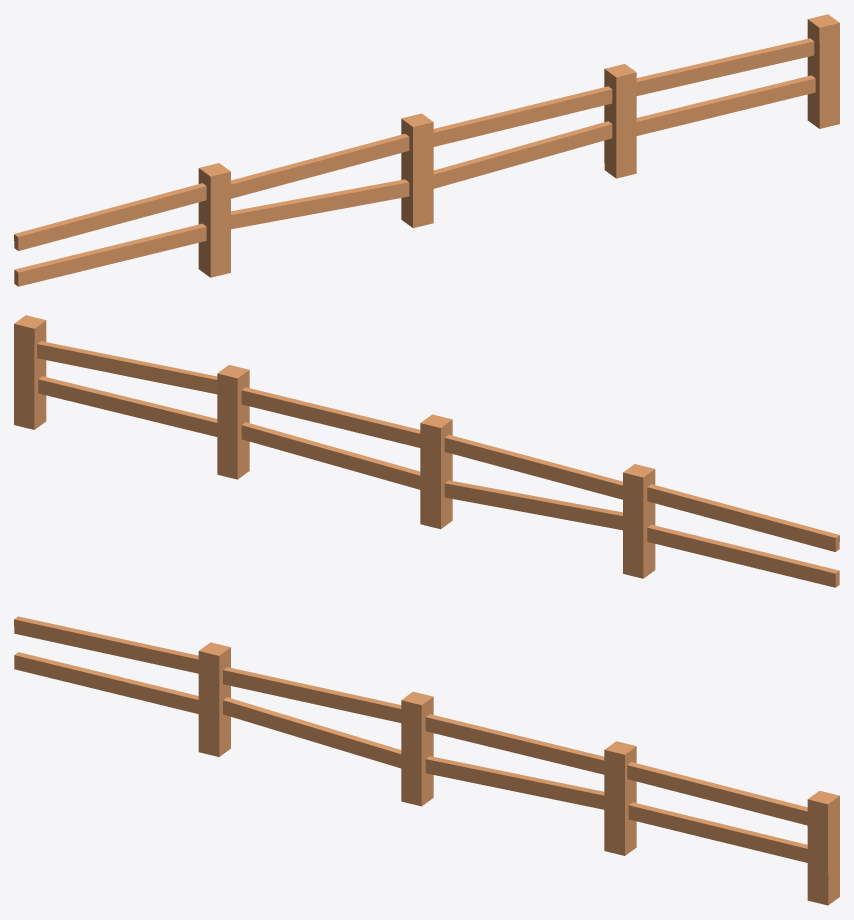
Rendered from fence.fbx.
The picture shows the model from 3 angles, top to bottom: view 1: azimuth 30°, elevation 25°; view 2: azimuth 150°, elevation 25°; view 3: azimuth 330°, elevation 25°; orthographic projection.
Visible parts, largest first — view 1: Cube.4; view 2: Cube.4; view 3: Cube.4.
Boxes of the visible parts, box(x1,y1,x2,y2) form: Cube.4: box(14, 14, 839, 286); Cube.4: box(14, 315, 839, 587); Cube.4: box(14, 616, 839, 905).
Bounding box in the file's own units: 2013 × 239 × 50.48.
